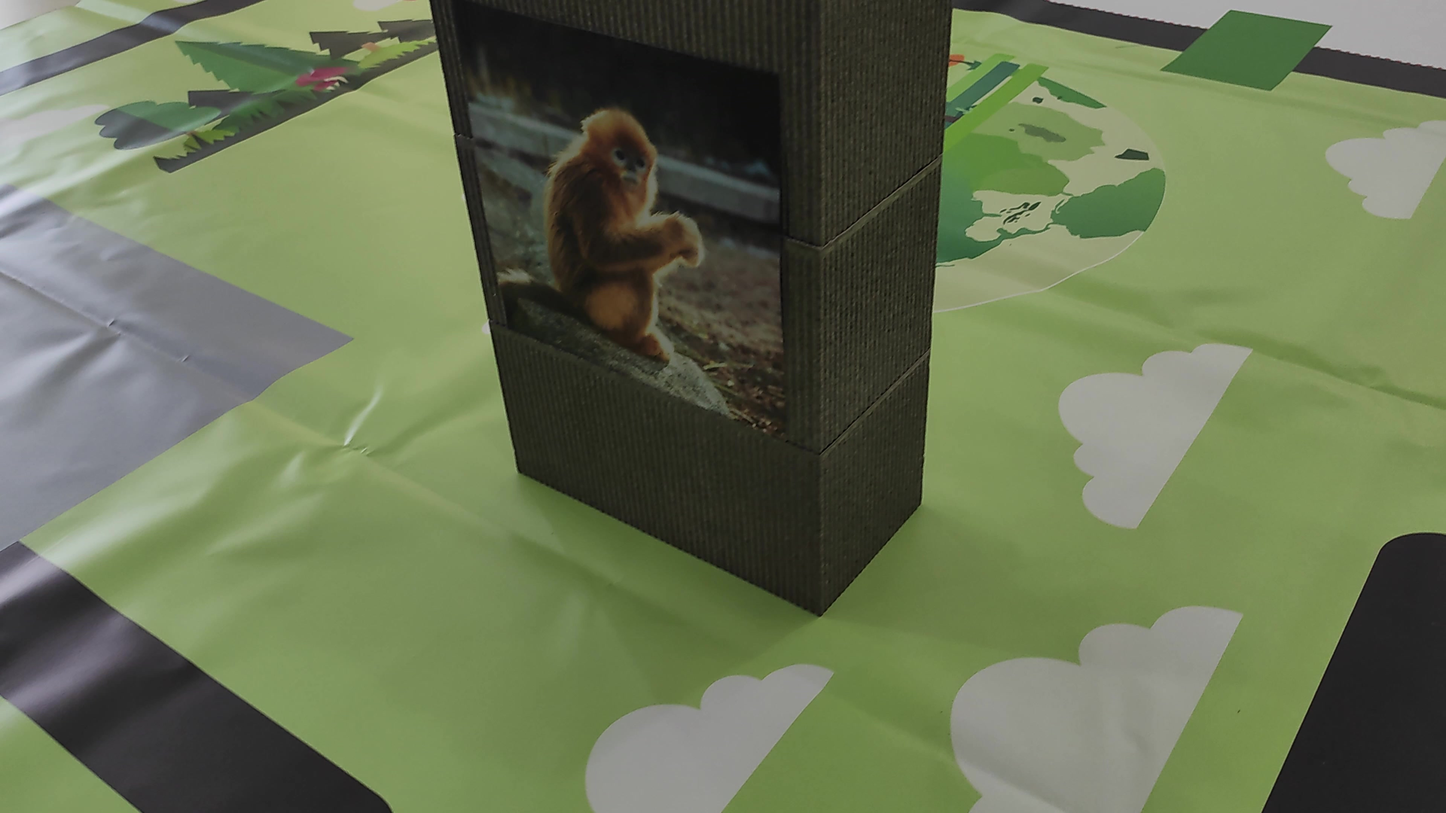monkey: (506, 76, 751, 355)
